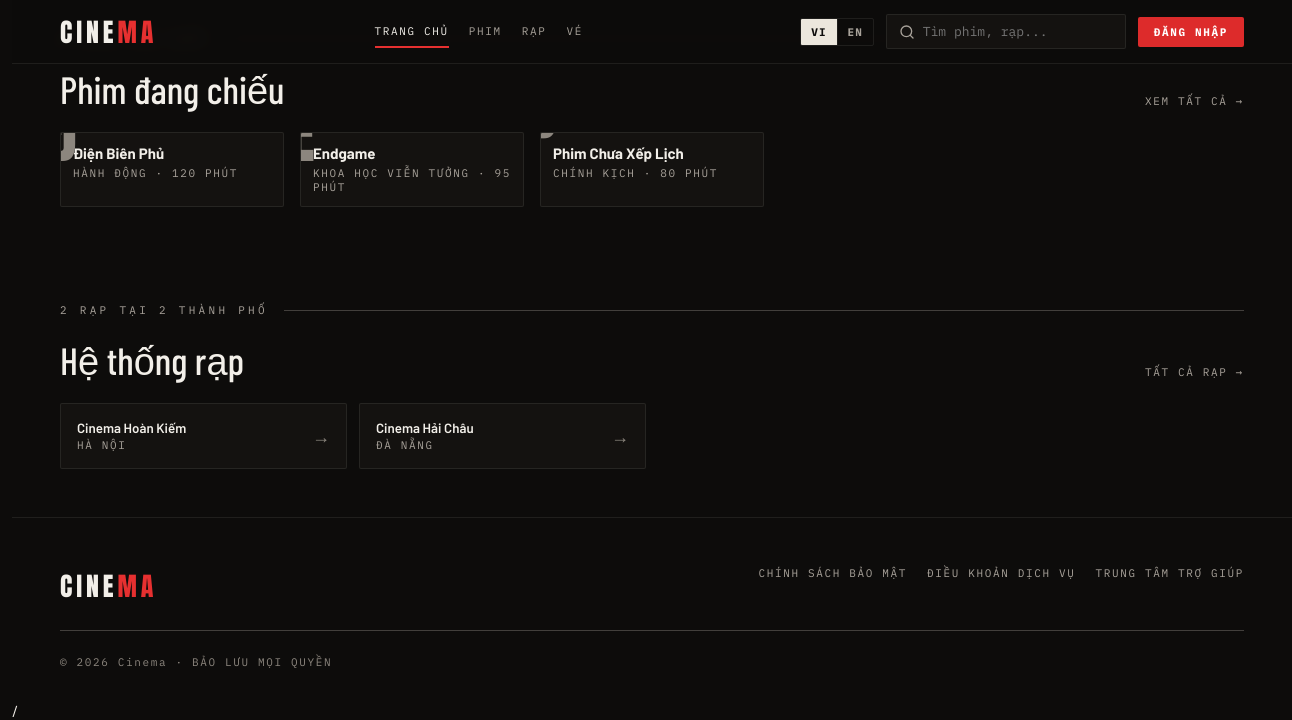
Home › bấm một rạp mở trang rạp đó
(page scrolled)
Click the text "Cinema Hải Châu" at (425, 428), box [376,420,474,436]
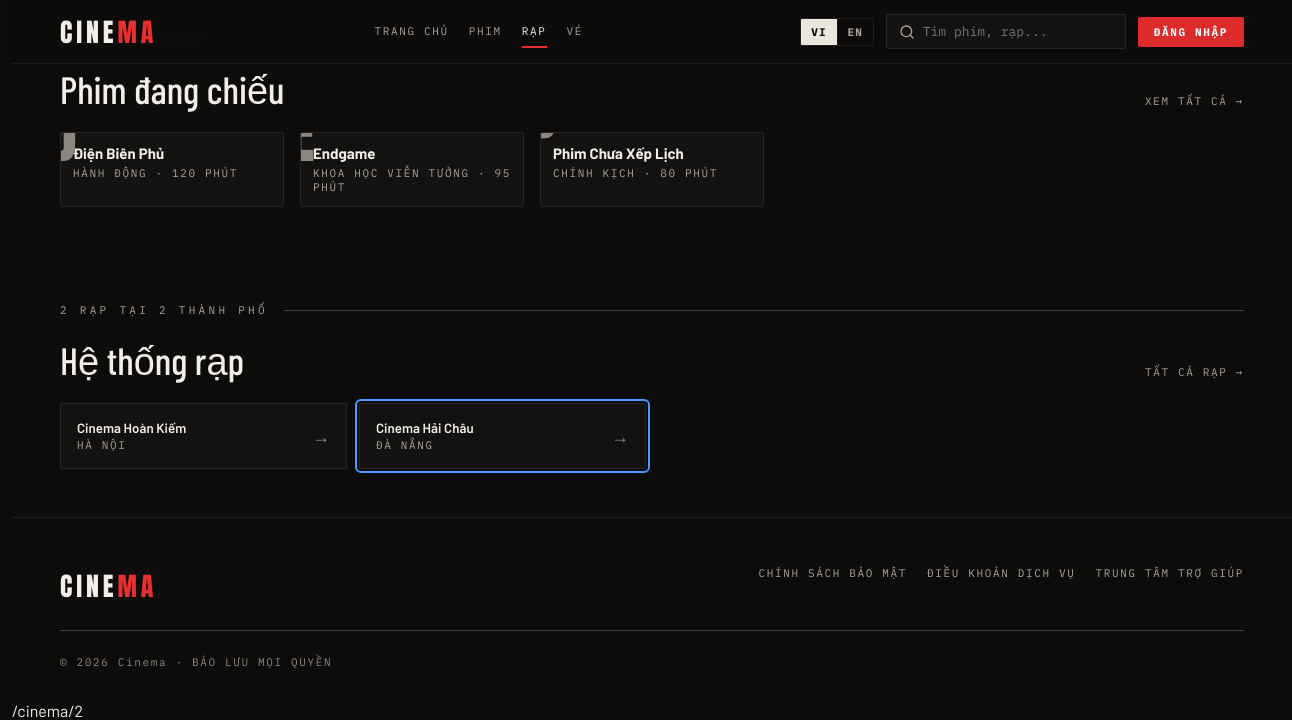
Check: the text with test id "path" reads "/cinema/2", box [12,701,83,719]
